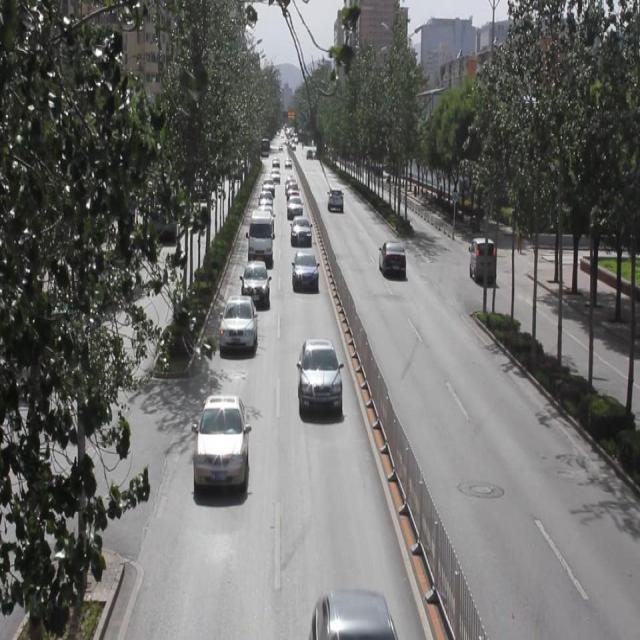car: (195, 394, 247, 487), (297, 338, 339, 417), (221, 295, 258, 353), (242, 260, 268, 305), (378, 239, 404, 281), (292, 251, 318, 292), (290, 216, 311, 247), (254, 205, 273, 234), (286, 195, 302, 219)
truck: (467, 236, 495, 282), (248, 210, 272, 259)
